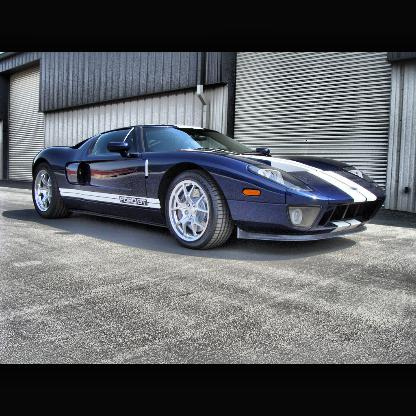Ford GT Coupe 2006: (33, 125, 387, 255)
